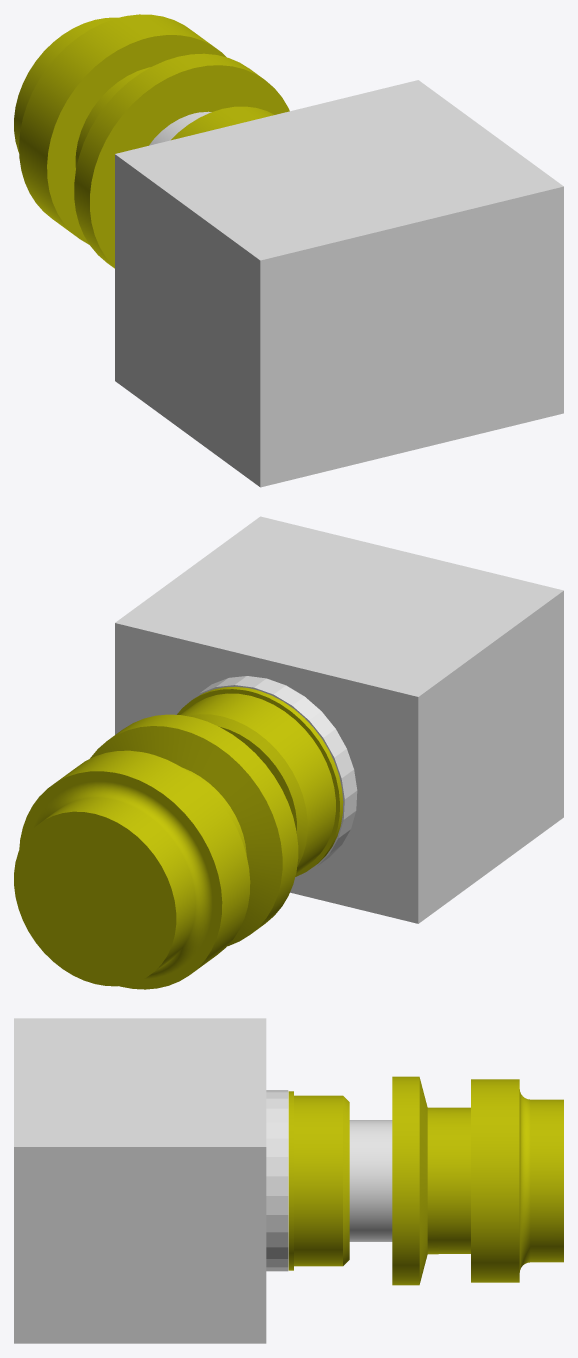
3 views of the same model, one above another, from view 1: azimuth 30°, elevation 25°; view 2: azimuth 150°, elevation 25°; view 3: azimuth 270°, elevation 25° (orthographic). The views are drawn at different scales.
Visible parts, largest first — view 1: schunkGrippe, Actor0, ft; view 2: schunkGrippe, Actor0, ft; view 3: schunkGrippe, ft, Actor0.
Part boxes in pixels (left/top/right/bottom): schunkGrippe: left=115, top=80, right=563, bottom=487; Actor0: left=14, top=14, right=226, bottom=244; ft: left=74, top=53, right=289, bottom=268; schunkGrippe: left=115, top=516, right=563, bottom=923; Actor0: left=14, top=750, right=250, bottom=989; ft: left=90, top=686, right=343, bottom=946; schunkGrippe: left=14, top=1018, right=288, bottom=1343; ft: left=288, top=1076, right=438, bottom=1285; Actor0: left=438, top=1079, right=563, bottom=1282.
Size of the model in its own units: 0.112 by 0.08 by 0.2026.
